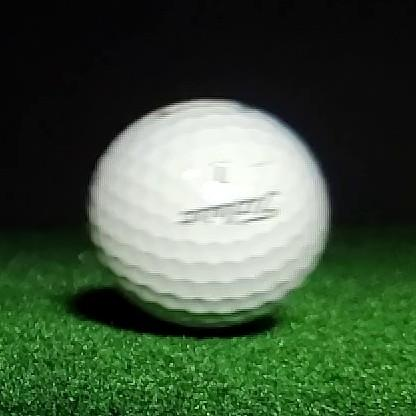golfball: (89, 101, 329, 328)
